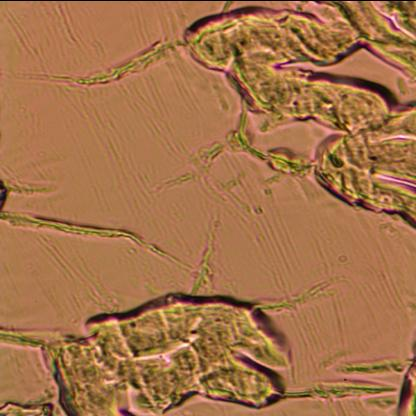Normal: (204, 0, 416, 228), (50, 297, 319, 416)
